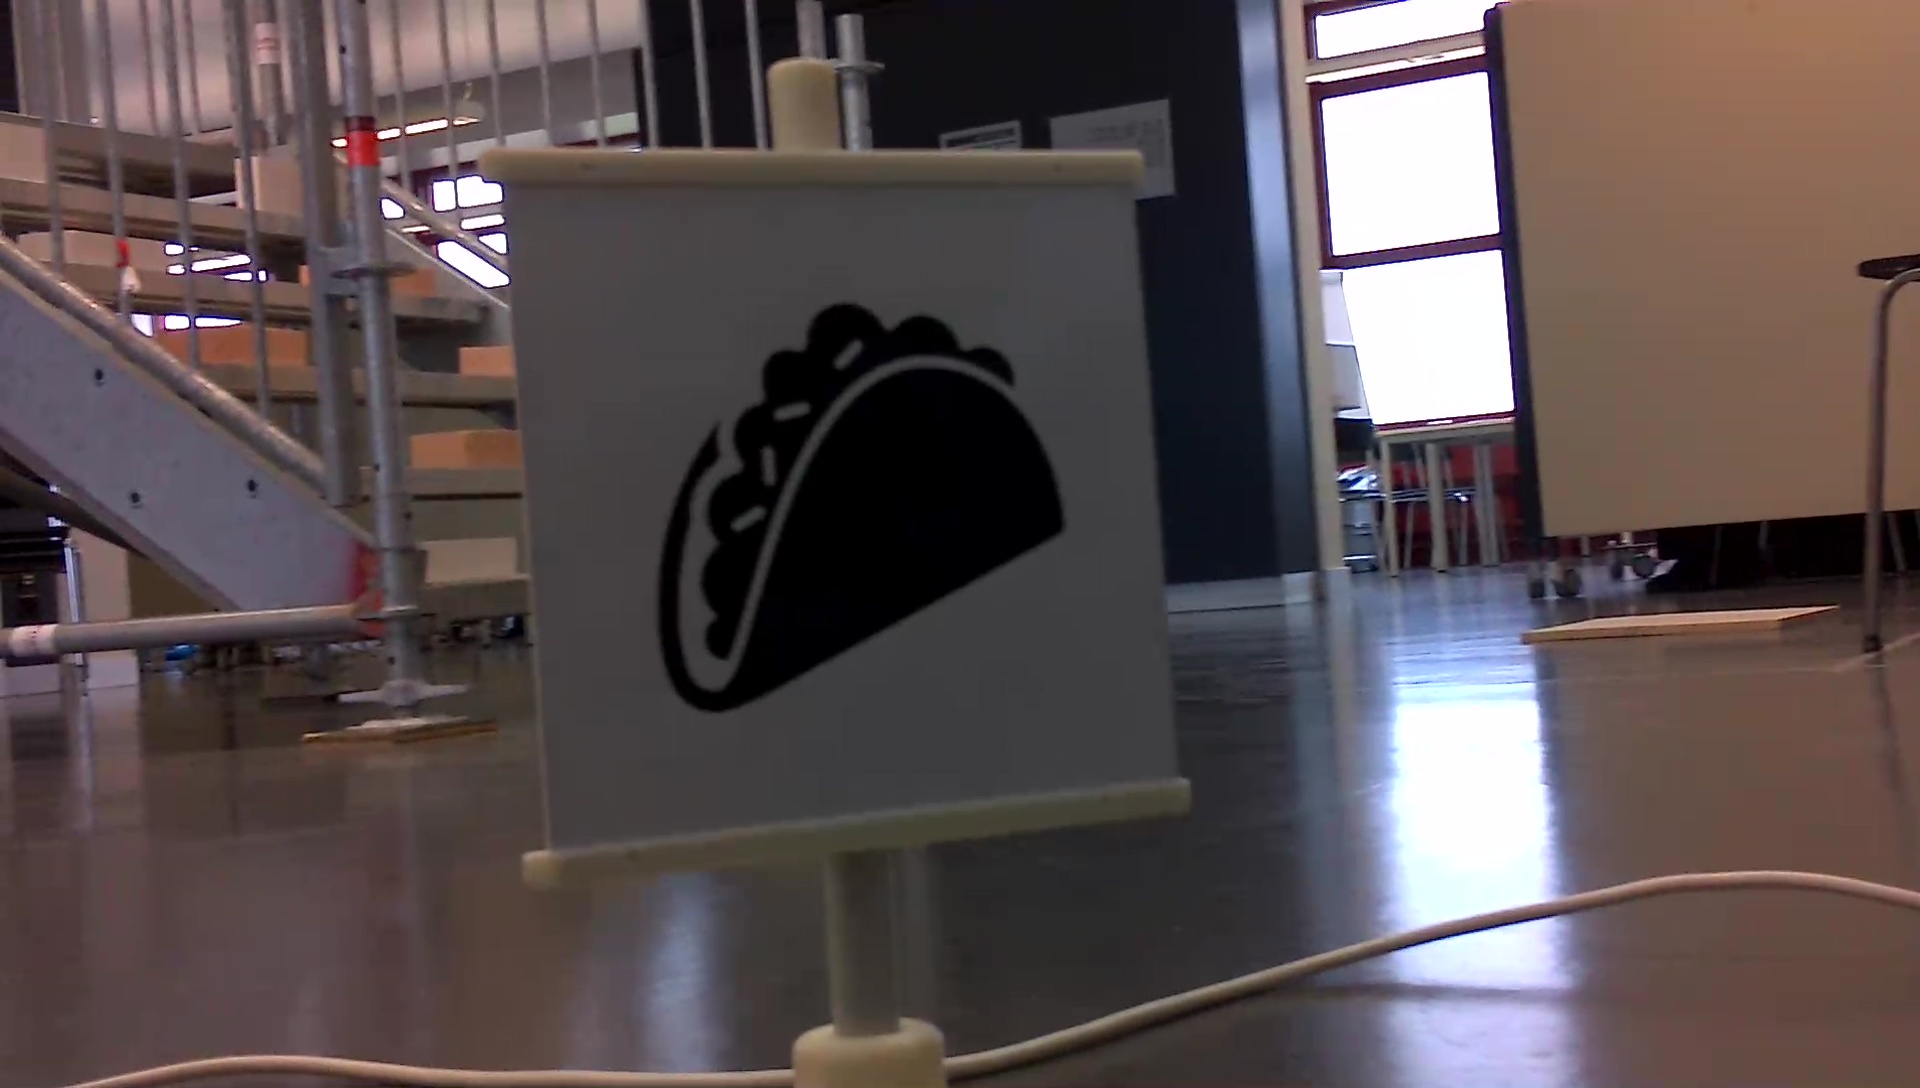brick: (411, 426, 521, 468), (425, 538, 513, 578), (462, 346, 514, 375)
taco: (642, 287, 1080, 727)
